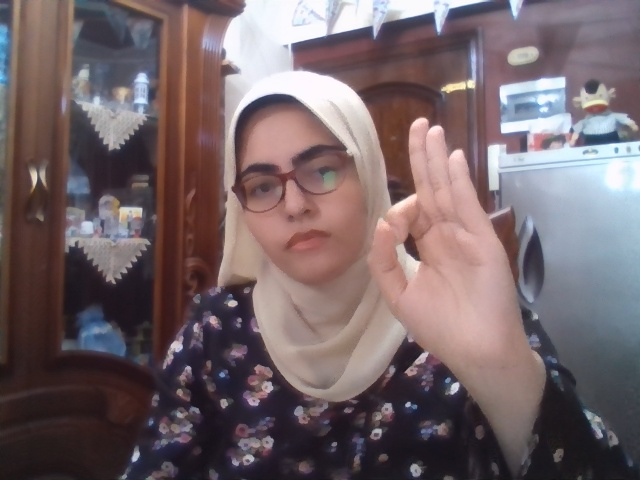F: (368, 117, 529, 372)
